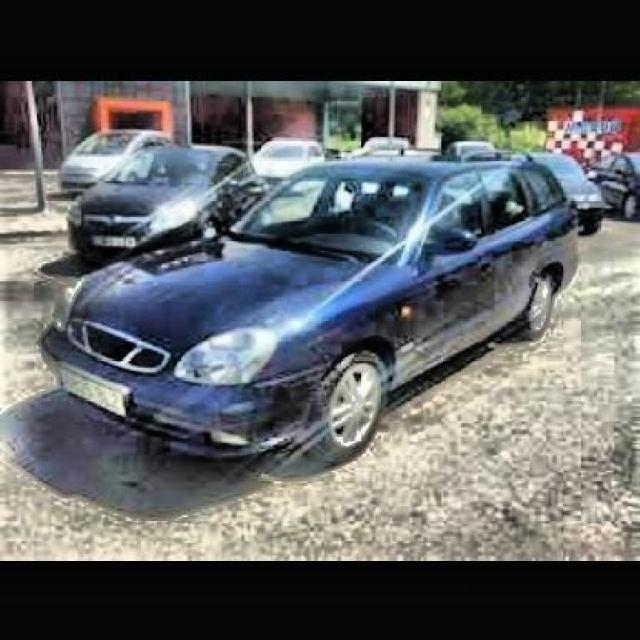blue: (42, 154, 595, 460)
